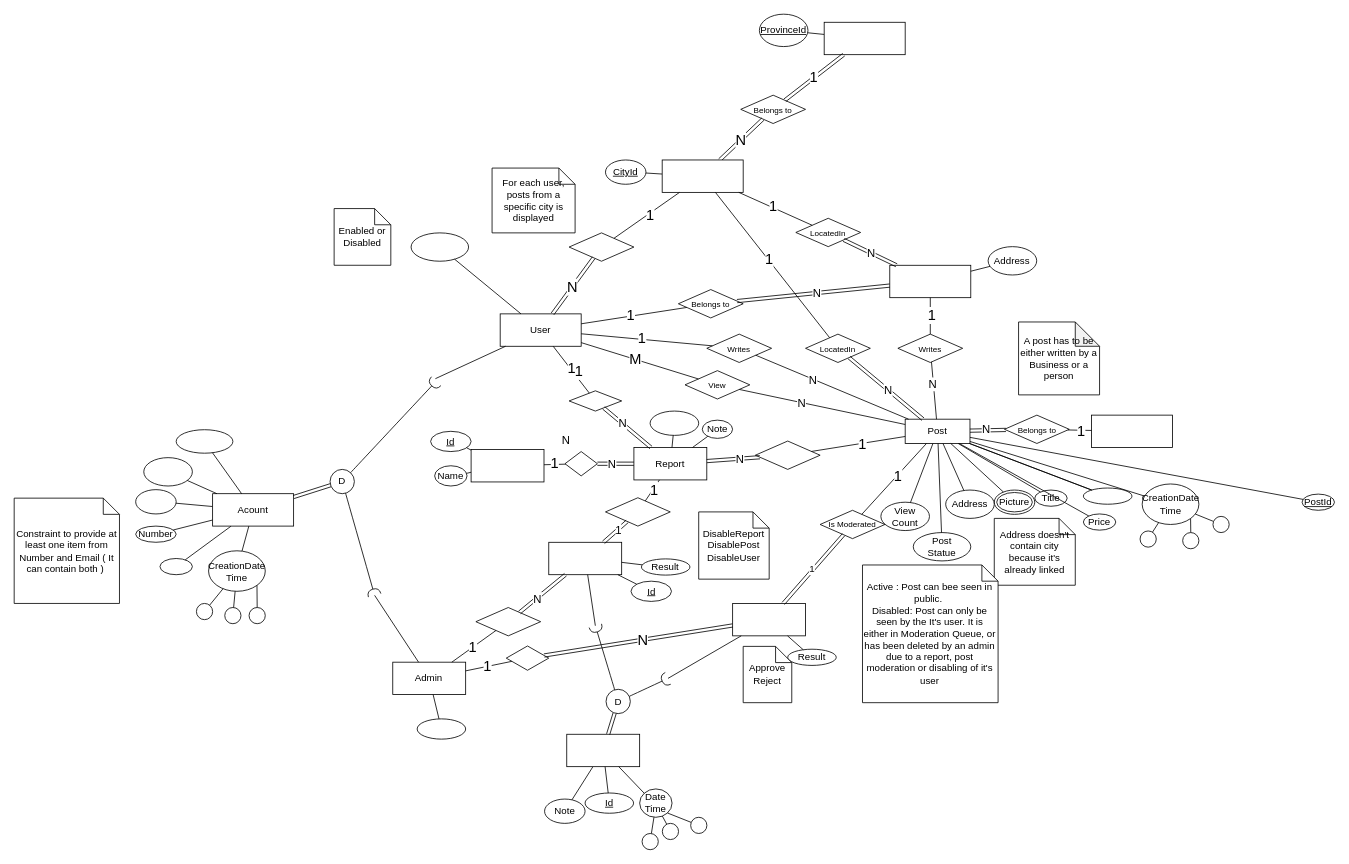
This 1349x864 diagram has some shape labels left out. Here are the shapes that lost their labels. From the top down, the box of each, then its label:
(823, 21, 905, 55): Province
(661, 159, 743, 192): City
(410, 232, 469, 261): UserStatus
(568, 232, 634, 261): Active
(889, 264, 971, 298): Business
(568, 390, 622, 411): Flags
(175, 429, 233, 453): LastName
(649, 410, 699, 435): ReportId
(1091, 414, 1173, 448): PostCategory
(143, 457, 192, 486): FirstName
(470, 449, 544, 482): ReportType
(564, 451, 597, 476): Has
(755, 440, 820, 469): Is Flaged
(135, 489, 176, 514): AcountId
(605, 497, 670, 526): IsModerated
(1083, 487, 1132, 504): Description
(159, 558, 192, 575): Email
(548, 541, 622, 575): Report Moderation
(475, 607, 541, 636): Moderates
(732, 603, 806, 636): PostModeration
(505, 645, 549, 670): Does
(416, 718, 466, 739): AdminId
(566, 733, 640, 767): Moderation
